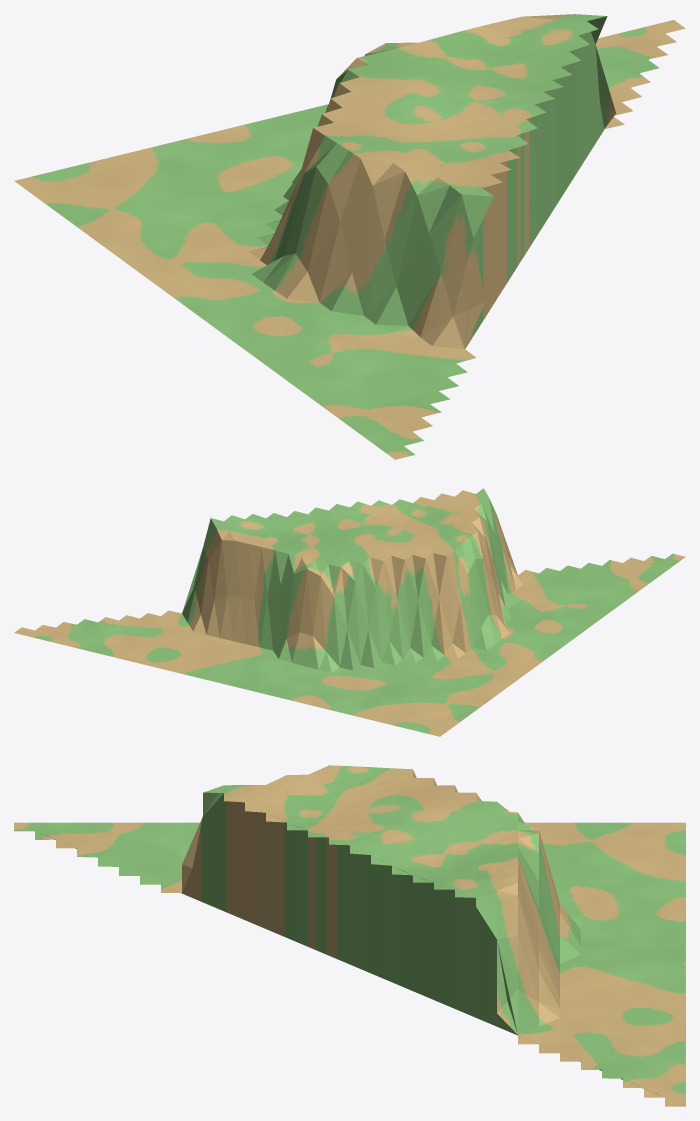
File: Grass_Hills_08_SW.obj
The picture shows the model from 3 angles, top to bottom: view 1: azimuth 30°, elevation 25°; view 2: azimuth 150°, elevation 25°; view 3: azimuth 270°, elevation 25°; orthographic projection. The views are drawn at different scales.
Bounding box in the file's own units: 10 × 1.98 × 10.
Materials: 1 (1 with a texture image).
